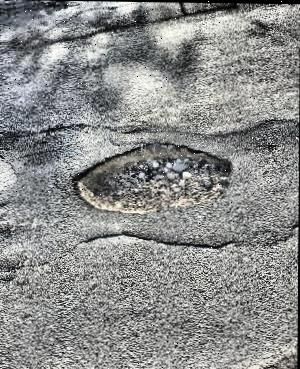pothole: (69, 136, 234, 214)
